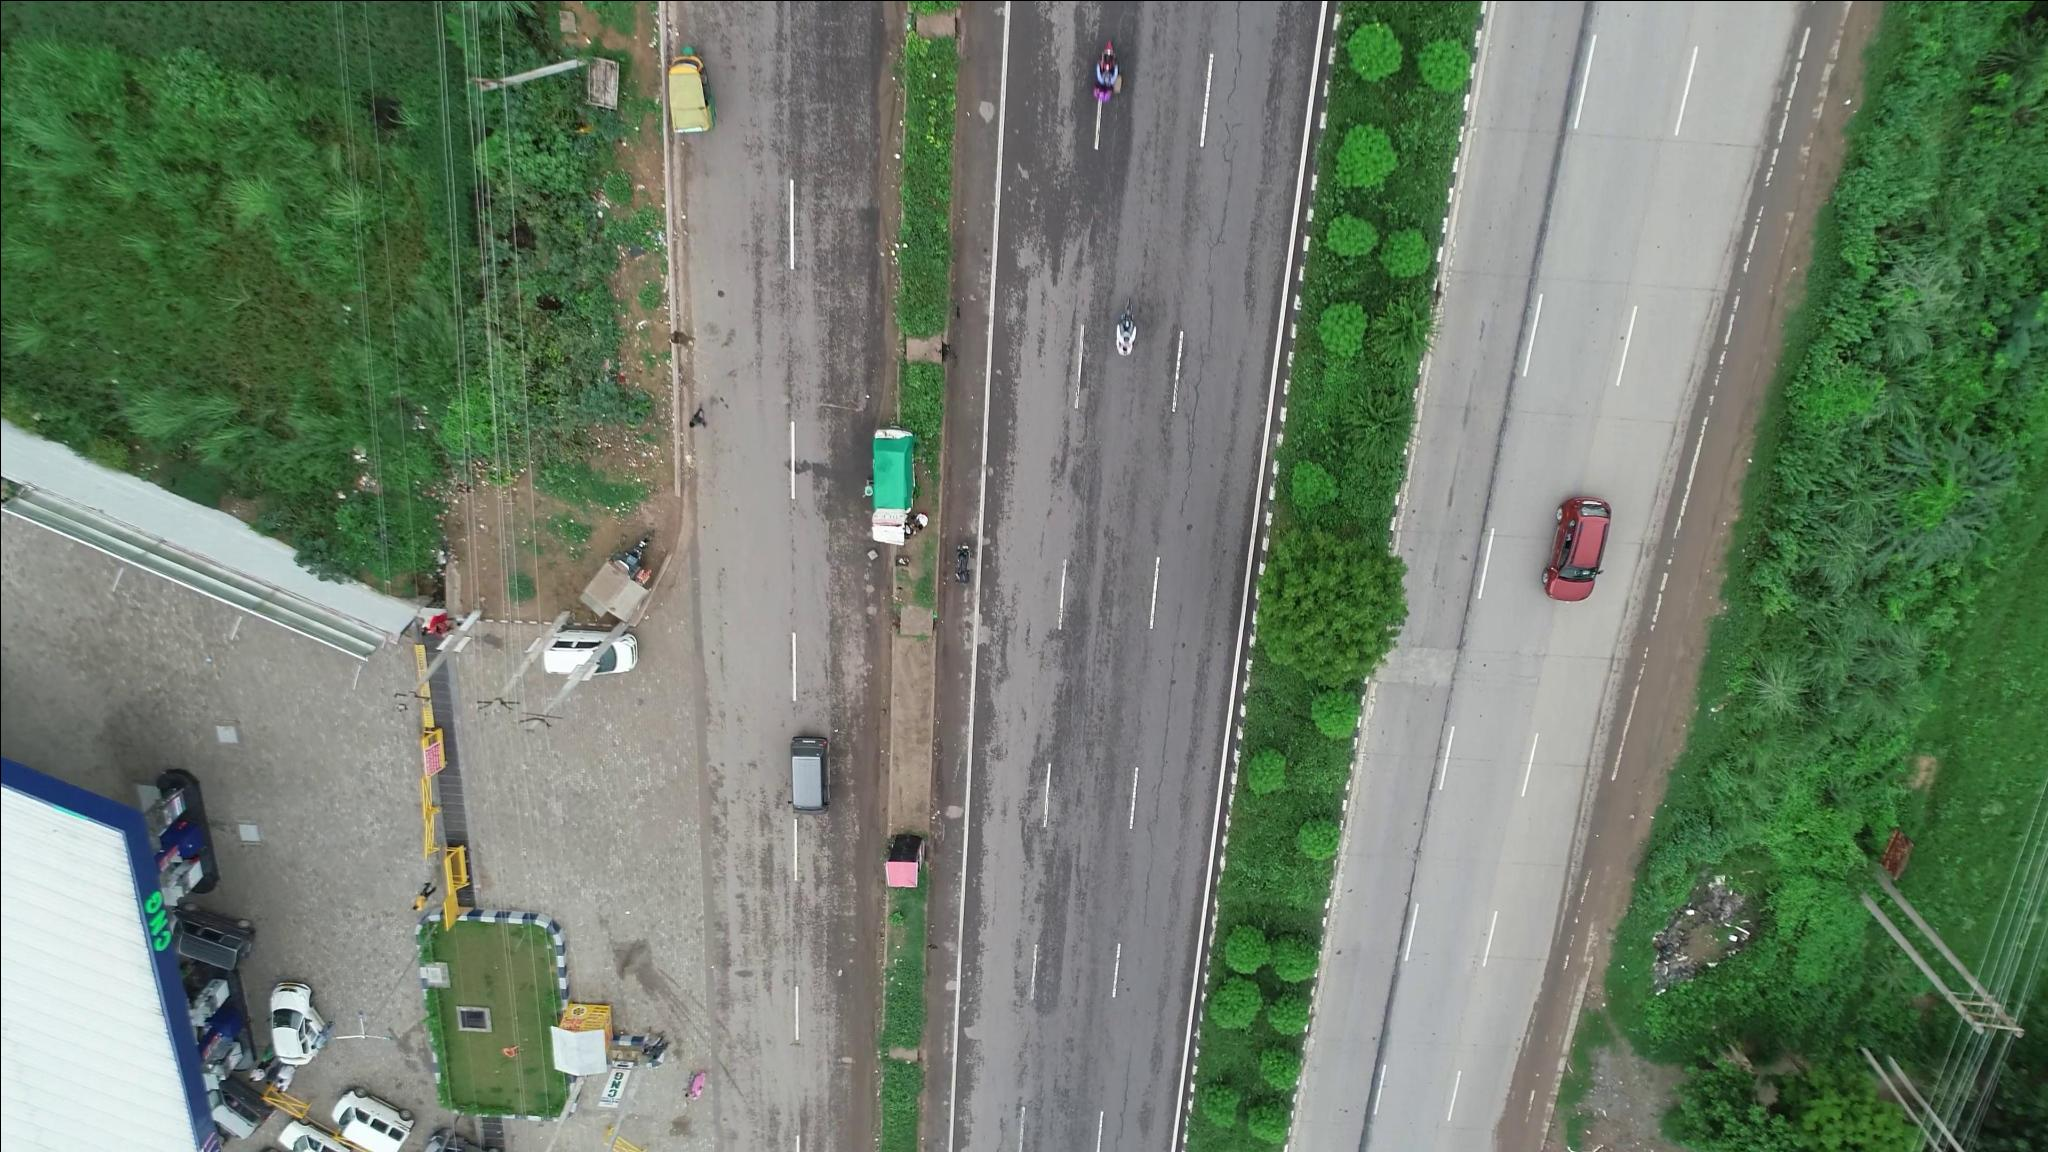Cracks: (1138, 608, 1191, 930), (1172, 259, 1225, 520), (1210, 8, 1256, 241)
